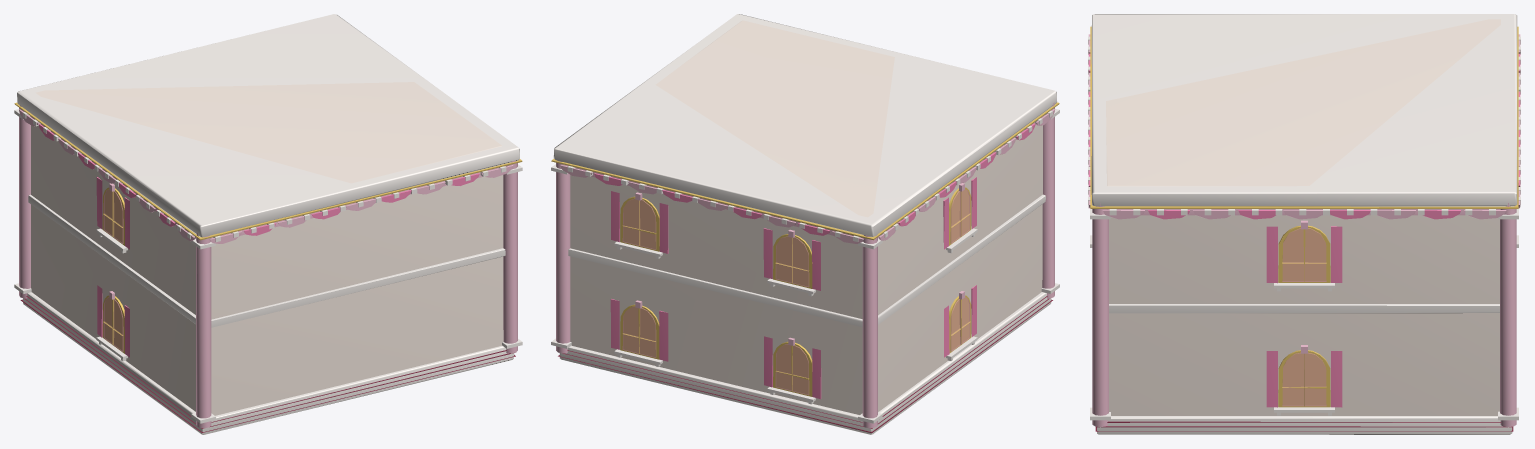
File: house_shell_wide.glb
3 renders of one model, left to right at view 1: azimuth 30°, elevation 25°; view 2: azimuth 150°, elevation 25°; view 3: azimuth 270°, elevation 25°, orthographic. The views are drawn at different scales.
Parts seen in each view (by area): view 1: house_shell_wide; view 2: house_shell_wide; view 3: house_shell_wide.
Boxes of the visible parts, x1,y1,x2,y2 form: house_shell_wide: (14,14,522,434); house_shell_wide: (551,14,1059,434); house_shell_wide: (1088,14,1520,434).
Bounding box in the file's own units: 12.78 × 8 × 12.78.
